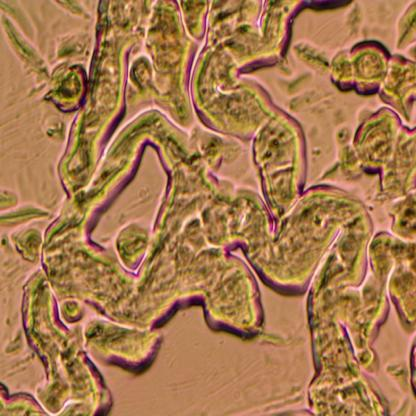Normal: (31, 0, 416, 382)
